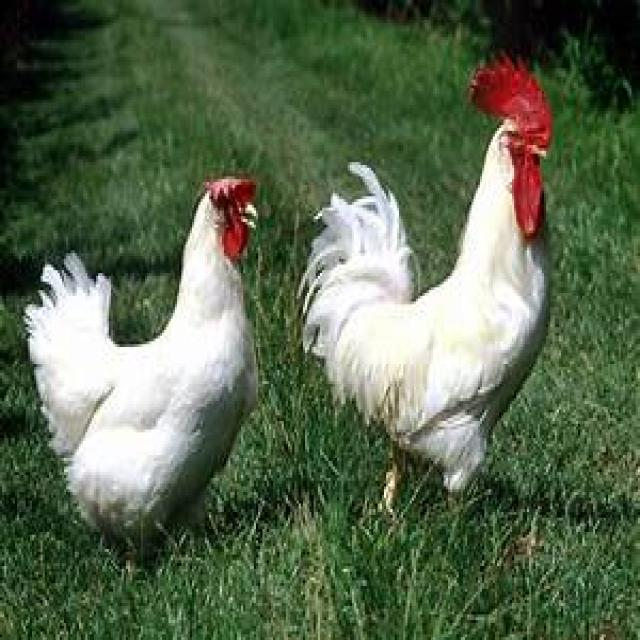hen: (300, 57, 552, 509), (26, 180, 258, 536)
